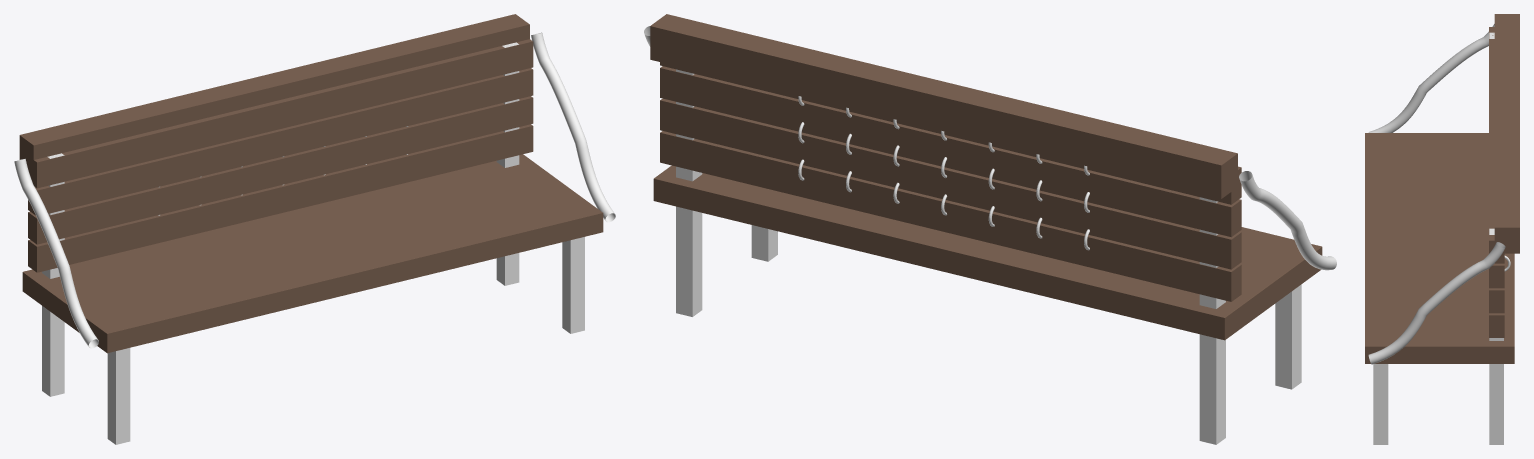
The picture shows the model from 3 angles, left to right: view 1: azimuth 30°, elevation 25°; view 2: azimuth 150°, elevation 25°; view 3: azimuth 270°, elevation 25°; orthographic projection. The views are drawn at different scales.
Visible parts, largest first — view 1: Cube, Cube.005, Cube.009, Cube.006, Cube.007, Cube.008, Cube.003, Cube.002, Cube.001, Cube.004, BézierCurve, BézierCurve.001 (+4 smaller); view 2: Cube.005, Cube.004, Cube.006, Cube.007, Cube.008, Cube.012, Cube.013, Cube.010, Cube.009, BézierCurve, Cube.001, Cube (+3 smaller); view 3: Cube, Cube.002, Cube.003, Cube.001, Cube.005, Cube.004, BézierCurve.001, BézierCurve, Cube.009, Cube.013, Cube.011, Cube.007 (+2 smaller).
Part boxes in pixels (<box>): Cube: <box>89,200,603,353</box>; Cube.005: <box>19,14,529,174</box>; Cube.009: <box>28,39,533,188</box>; Cube.006: <box>28,124,533,272</box>; Cube.007: <box>28,96,533,244</box>; Cube.008: <box>28,68,533,215</box>; Cube.003: <box>39,163,551,315</box>; Cube.002: <box>56,175,568,328</box>; Cube.001: <box>72,187,585,332</box>; Cube.004: <box>22,154,534,303</box>; BézierCurve: <box>14,158,98,348</box>; BézierCurve.001: <box>531,32,615,222</box>; Cube.005: <box>650,14,1237,198</box>; Cube.004: <box>653,165,1244,340</box>; Cube.006: <box>660,131,1241,301</box>; Cube.007: <box>660,98,1241,269</box>; Cube.008: <box>660,66,1241,237</box>; Cube.012: <box>1199,197,1225,444</box>; Cube.013: <box>676,69,702,316</box>; Cube.010: <box>1275,284,1301,389</box>; Cube.009: <box>660,62,1241,204</box>; BézierCurve: <box>1239,171,1336,270</box>; Cube.001: <box>1239,246,1301,297</box>; Cube: <box>1239,227,1322,283</box>; Cube: <box>1365,133,1396,363</box>; Cube.002: <box>1424,133,1455,363</box>; Cube.003: <box>1453,133,1484,363</box>; Cube.001: <box>1394,133,1425,363</box>; Cube.005: <box>1494,14,1519,253</box>; Cube.004: <box>1483,133,1514,363</box>; BézierCurve.001: <box>1368,242,1505,364</box>; BézierCurve: <box>1368,24,1494,132</box>; Cube.009: <box>1489,27,1504,263</box>; Cube.013: <box>1489,228,1503,444</box>; Cube.011: <box>1373,364,1388,444</box>; Cube.007: <box>1489,288,1504,313</box>.
Size of the model in its own units: 2.55 by 1.17 by 0.735.
